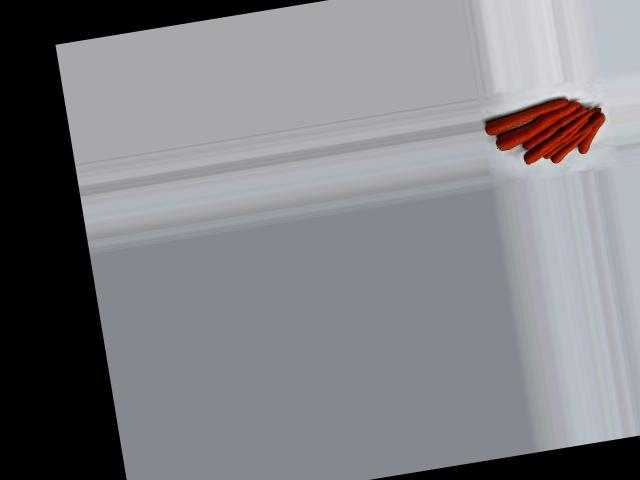carrot: (575, 108, 613, 161)
